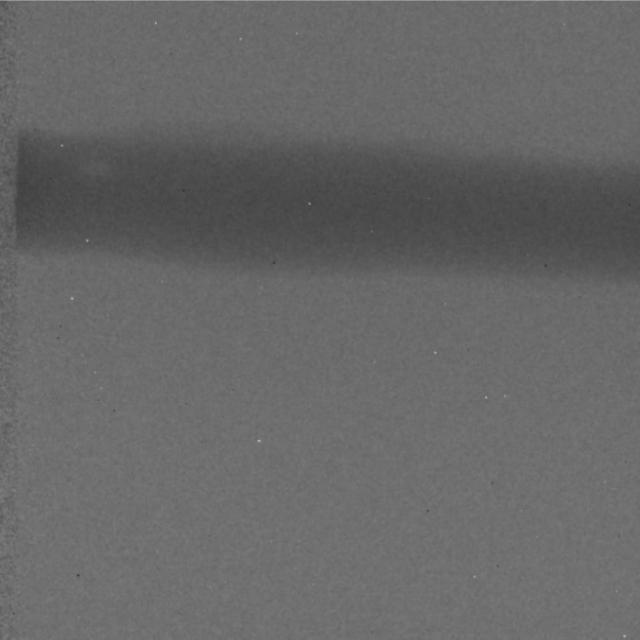slag-inclusion: (75, 156, 116, 182)
